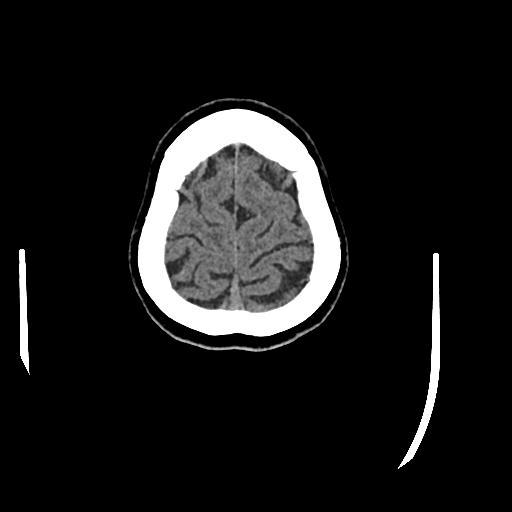Normal_Brain: (120, 101, 358, 362)
